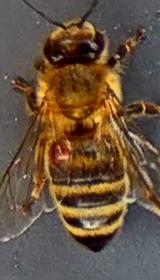varroa_mite: (38, 134, 78, 170)
